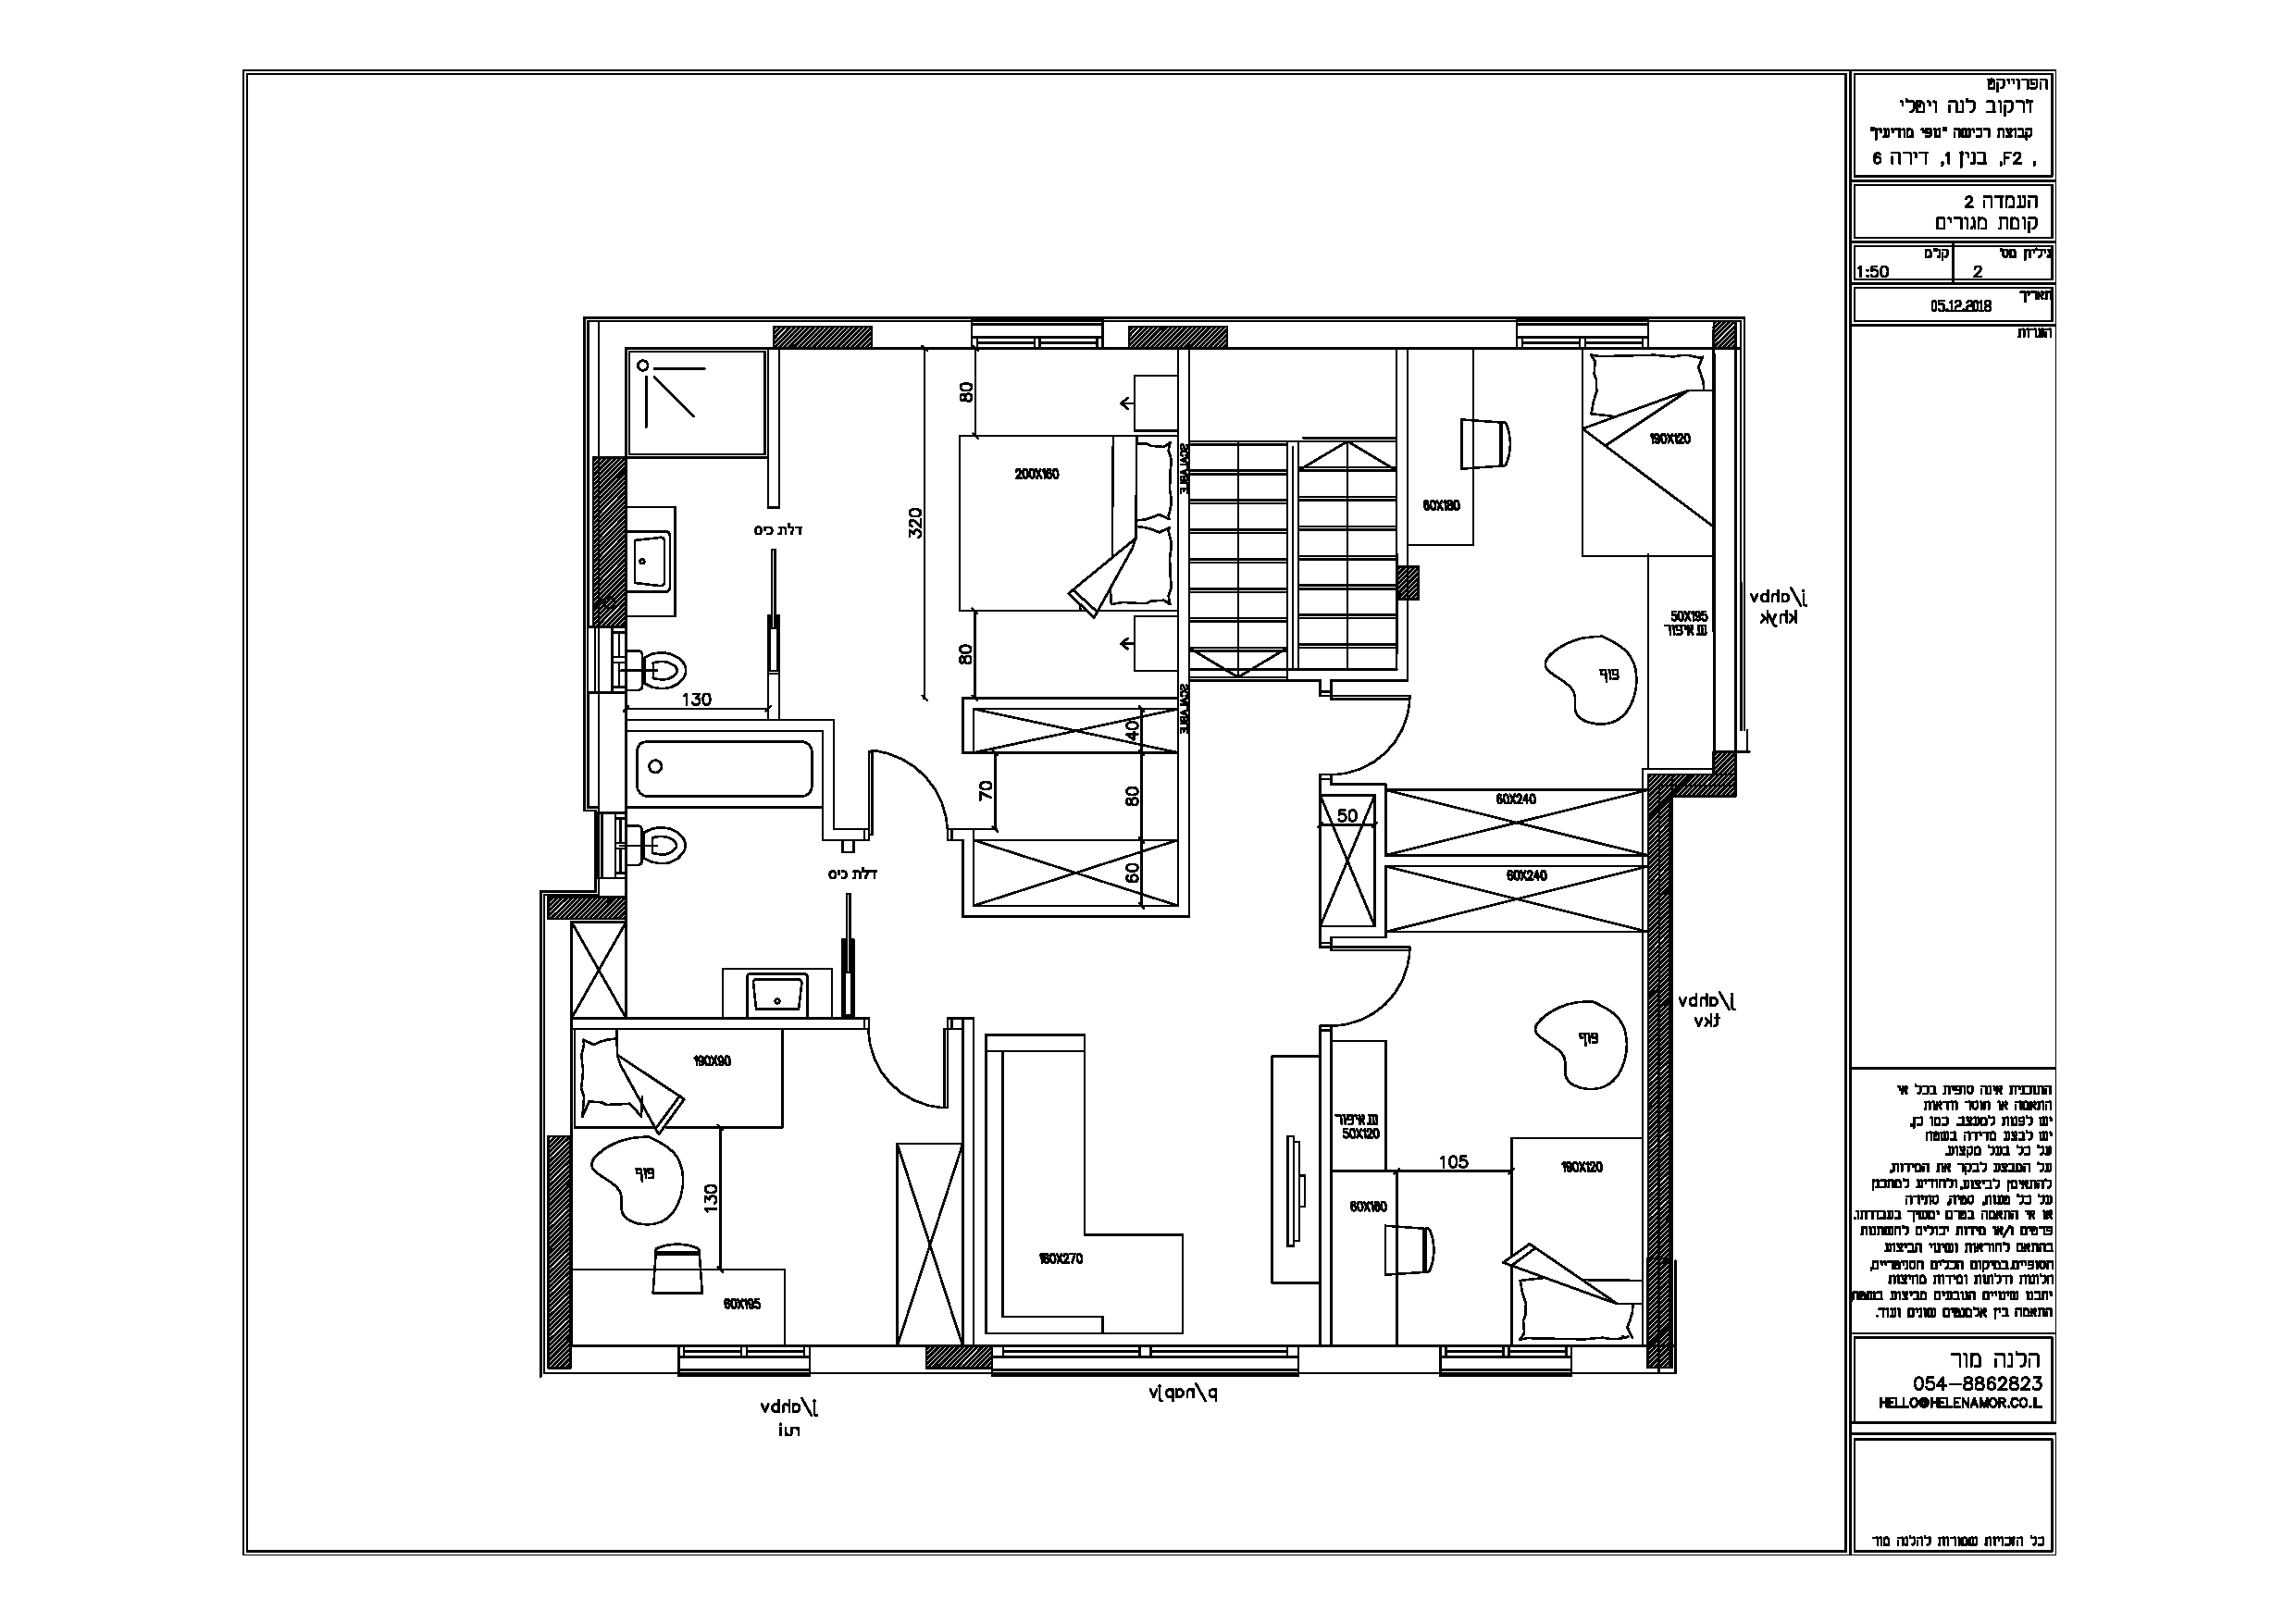door: (1342, 683, 1440, 785), (861, 724, 954, 831), (1332, 927, 1425, 1035), (864, 1036, 956, 1143)
wall: (545, 1138, 574, 1368), (597, 457, 624, 622)
window: (1151, 1344, 1284, 1360), (996, 1345, 1140, 1358), (678, 1345, 747, 1360), (747, 1344, 806, 1356), (977, 337, 1035, 350), (1040, 337, 1096, 350)
